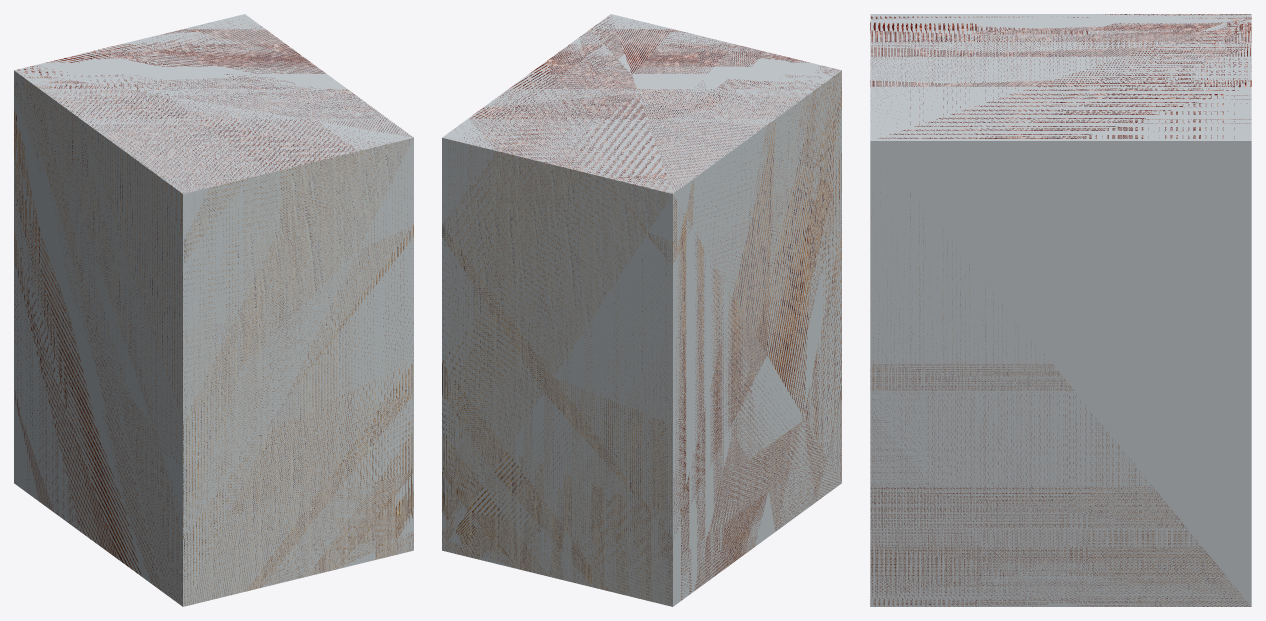
Rendered from tembusu.glb.
The picture shows the model from 3 angles, left to right: view 1: azimuth 30°, elevation 25°; view 2: azimuth 150°, elevation 25°; view 3: azimuth 270°, elevation 25°; orthographic projection. The views are drawn at different scales.
Visible parts, largest first — view 1: BackSide, FrontSide; view 2: BackSide, FrontSide; view 3: BackSide, FrontSide.
Part boxes in pixels (left/top/right/bottom): BackSide: left=14, top=14, right=413, bottom=606; FrontSide: left=14, top=19, right=413, bottom=605; BackSide: left=442, top=14, right=841, bottom=606; FrontSide: left=442, top=16, right=841, bottom=606; BackSide: left=870, top=14, right=1251, bottom=606; FrontSide: left=870, top=14, right=1251, bottom=606.
Size of the model in its own units: 1.51 by 2.58 by 1.92.
Materials: 4 (3 with a texture image).
